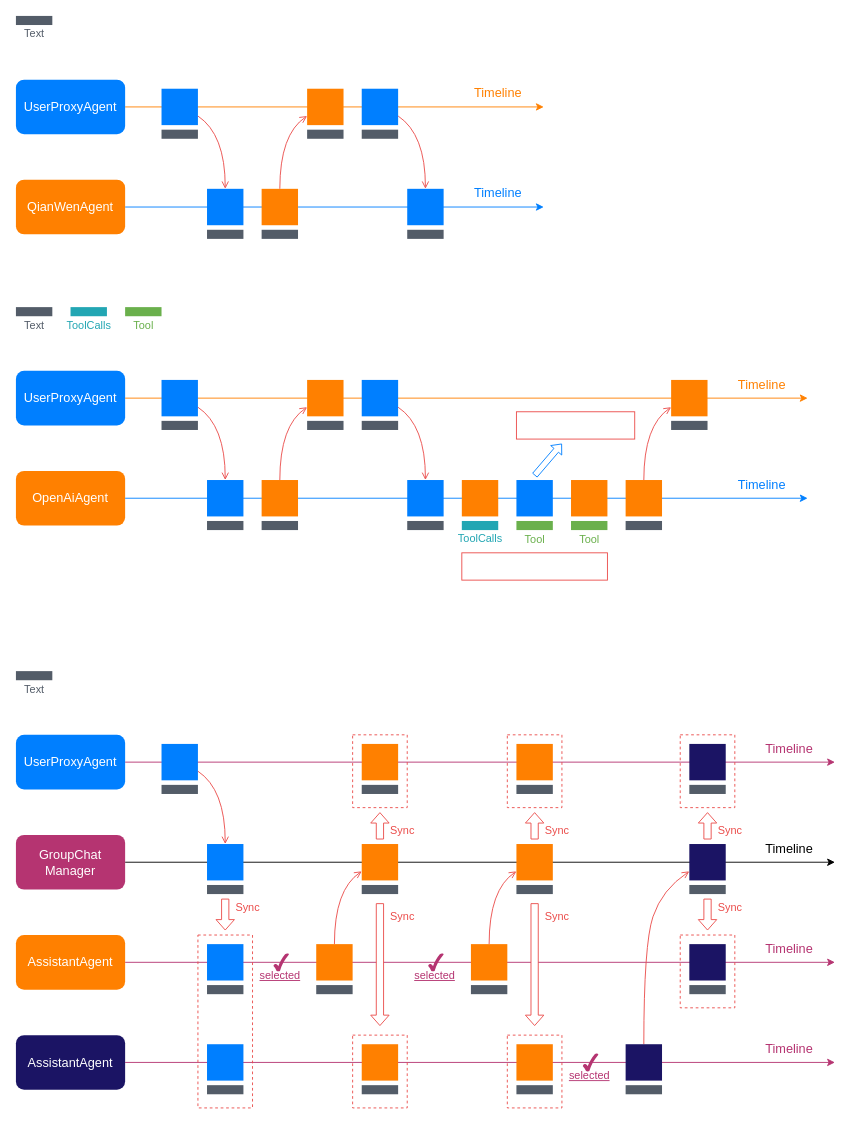
Some shapes in this 858 by 1124 pixel diagram are drawn without their labels. Each missing label, with the box of its shape:
Parallel function calling: (461, 552, 607, 580)
User confirmation: (516, 411, 635, 439)
